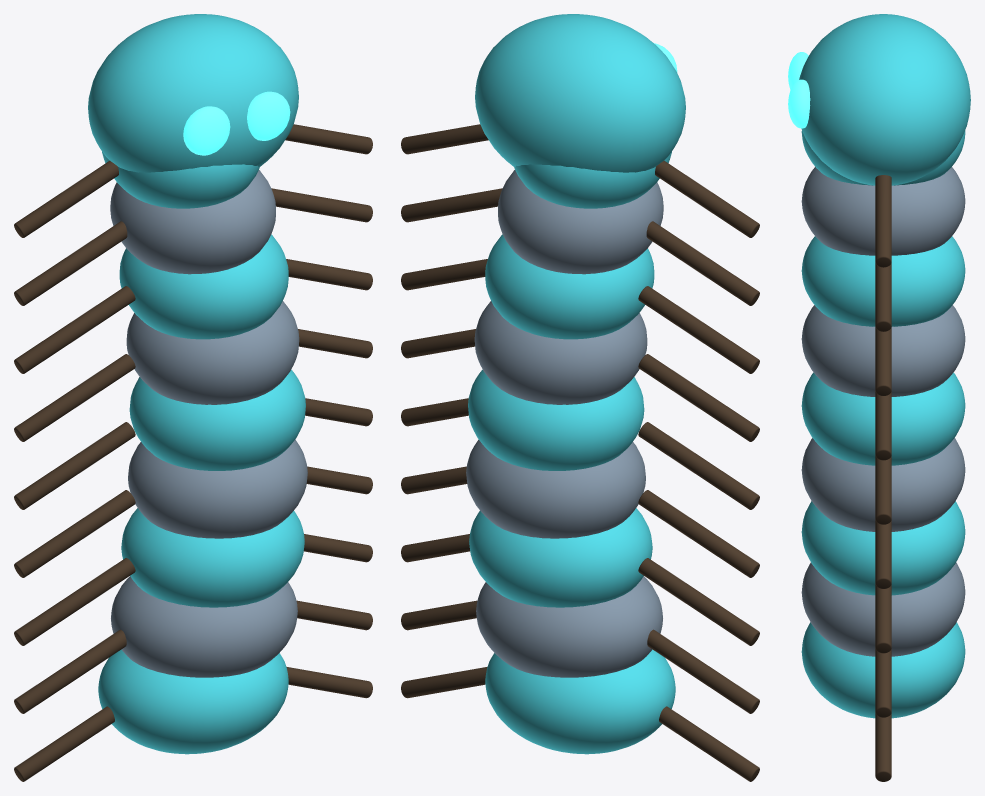
File: insect_v6.glb
The picture shows the model from 3 angles, left to right: view 1: azimuth 30°, elevation 25°; view 2: azimuth 150°, elevation 25°; view 3: azimuth 270°, elevation 25°; orthographic projection. The views are drawn at different scales.
Visible parts, largest first — view 1: CENTIPEDE_HEAD_ACCENT, CENTIPEDE_SEGMENT_ACCENT, CENTIPEDE_SEGMENT_PRIMARY, CENTIPEDE_SEGMENT_ACCENT.001, CENTIPEDE_SEGMENT_PRIMARY.001, CENTIPEDE_SEGMENT_ACCENT.002, CENTIPEDE_SEGMENT_PRIMARY.002, CENTIPEDE_SEGMENT_ACCENT.003, CENTIPEDE_SEGMENT_PRIMARY.003, CENTIPEDE_SEGMENT_ACCENT.004, CENTIPEDE_LEG_SECONDARY.012, CENTIPEDE_LEG_SECONDARY.004 (+18 smaller); view 2: CENTIPEDE_HEAD_ACCENT, CENTIPEDE_SEGMENT_ACCENT, CENTIPEDE_SEGMENT_PRIMARY, CENTIPEDE_SEGMENT_ACCENT.001, CENTIPEDE_SEGMENT_PRIMARY.001, CENTIPEDE_SEGMENT_ACCENT.002, CENTIPEDE_SEGMENT_PRIMARY.002, CENTIPEDE_SEGMENT_ACCENT.003, CENTIPEDE_SEGMENT_PRIMARY.003, CENTIPEDE_SEGMENT_ACCENT.004, CENTIPEDE_LEG_SECONDARY.012, CENTIPEDE_LEG_SECONDARY.004 (+16 smaller); view 3: CENTIPEDE_HEAD_ACCENT, CENTIPEDE_SEGMENT_ACCENT.003, CENTIPEDE_SEGMENT_PRIMARY.003, CENTIPEDE_SEGMENT_PRIMARY.002, CENTIPEDE_SEGMENT_ACCENT.002, CENTIPEDE_SEGMENT_PRIMARY.001, CENTIPEDE_SEGMENT_ACCENT.001, CENTIPEDE_SEGMENT_PRIMARY, CENTIPEDE_SEGMENT_ACCENT, CENTIPEDE_LEG_SECONDARY.017, CENTIPEDE_SEGMENT_ACCENT.004, CENTIPEDE_LEG_SECONDARY.001 (+9 smaller).
Part boxes in pixels (bbox=[...]): CENTIPEDE_HEAD_ACCENT: bbox=[88, 14, 298, 172]; CENTIPEDE_SEGMENT_ACCENT: bbox=[98, 649, 288, 754]; CENTIPEDE_SEGMENT_PRIMARY: bbox=[111, 576, 297, 677]; CENTIPEDE_SEGMENT_ACCENT.001: bbox=[121, 508, 304, 607]; CENTIPEDE_SEGMENT_PRIMARY.001: bbox=[128, 439, 307, 538]; CENTIPEDE_SEGMENT_ACCENT.002: bbox=[129, 369, 305, 470]; CENTIPEDE_SEGMENT_PRIMARY.002: bbox=[126, 301, 299, 404]; CENTIPEDE_SEGMENT_ACCENT.003: bbox=[119, 234, 288, 339]; CENTIPEDE_SEGMENT_PRIMARY.003: bbox=[110, 170, 275, 274]; CENTIPEDE_SEGMENT_ACCENT.004: bbox=[102, 151, 259, 208]; CENTIPEDE_LEG_SECONDARY.012: bbox=[14, 286, 135, 373]; CENTIPEDE_LEG_SECONDARY.004: bbox=[14, 558, 135, 645]; CENTIPEDE_HEAD_ACCENT: bbox=[475, 14, 685, 172]; CENTIPEDE_SEGMENT_ACCENT: bbox=[485, 649, 675, 754]; CENTIPEDE_SEGMENT_PRIMARY: bbox=[476, 576, 662, 677]; CENTIPEDE_SEGMENT_ACCENT.001: bbox=[469, 508, 652, 607]; CENTIPEDE_SEGMENT_PRIMARY.001: bbox=[466, 439, 645, 538]; CENTIPEDE_SEGMENT_ACCENT.002: bbox=[468, 369, 644, 470]; CENTIPEDE_SEGMENT_PRIMARY.002: bbox=[474, 301, 647, 404]; CENTIPEDE_SEGMENT_ACCENT.003: bbox=[485, 234, 654, 339]; CENTIPEDE_SEGMENT_PRIMARY.003: bbox=[498, 170, 663, 274]; CENTIPEDE_SEGMENT_ACCENT.004: bbox=[514, 151, 671, 208]; CENTIPEDE_LEG_SECONDARY.012: bbox=[638, 286, 759, 373]; CENTIPEDE_LEG_SECONDARY.004: bbox=[638, 558, 759, 645]; CENTIPEDE_HEAD_ACCENT: bbox=[799, 14, 970, 185]; CENTIPEDE_SEGMENT_ACCENT.003: bbox=[801, 236, 965, 326]; CENTIPEDE_SEGMENT_PRIMARY.003: bbox=[801, 167, 965, 255]; CENTIPEDE_SEGMENT_PRIMARY.002: bbox=[801, 305, 965, 396]; CENTIPEDE_SEGMENT_ACCENT.002: bbox=[801, 372, 965, 465]; CENTIPEDE_SEGMENT_PRIMARY.001: bbox=[801, 438, 965, 531]; CENTIPEDE_SEGMENT_ACCENT.001: bbox=[801, 501, 965, 595]; CENTIPEDE_SEGMENT_PRIMARY: bbox=[801, 562, 965, 656]; CENTIPEDE_SEGMENT_ACCENT: bbox=[801, 622, 965, 718]; CENTIPEDE_LEG_SECONDARY.017: bbox=[875, 175, 891, 267]; CENTIPEDE_SEGMENT_ACCENT.004: bbox=[801, 130, 965, 185]; CENTIPEDE_LEG_SECONDARY.001: bbox=[875, 712, 891, 781].
Size of the model in its own units: 1.42 by 2.75 by 0.67.
